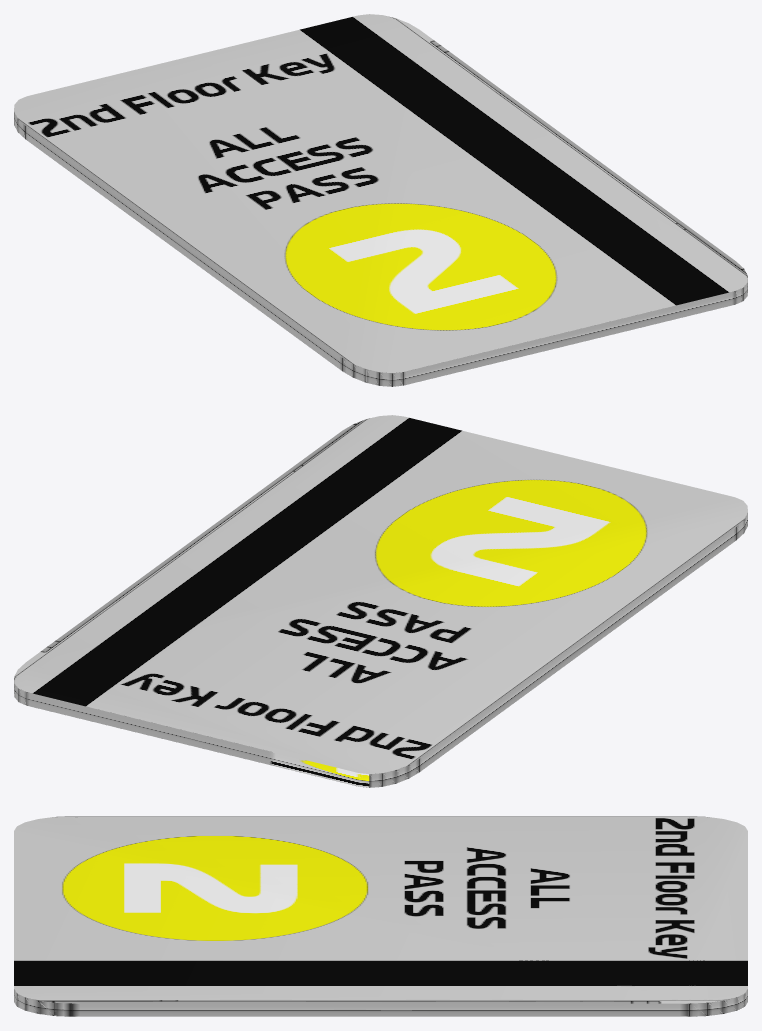
Rendered from keycard2.fbx.
3 renders of one model, top to bottom at view 1: azimuth 30°, elevation 25°; view 2: azimuth 150°, elevation 25°; view 3: azimuth 270°, elevation 25°, orthographic. The views are drawn at different scales.
Parts seen in each view (by area): view 1: Card 2; view 2: Card 2; view 3: Card 2.
Boxes of the visible parts, bbox=[...] form: Card 2: bbox=[14, 14, 747, 386]; Card 2: bbox=[14, 415, 747, 787]; Card 2: bbox=[14, 816, 747, 1016].
Size of the model in its own units: 13.31 by 0.4408 by 22.04.
